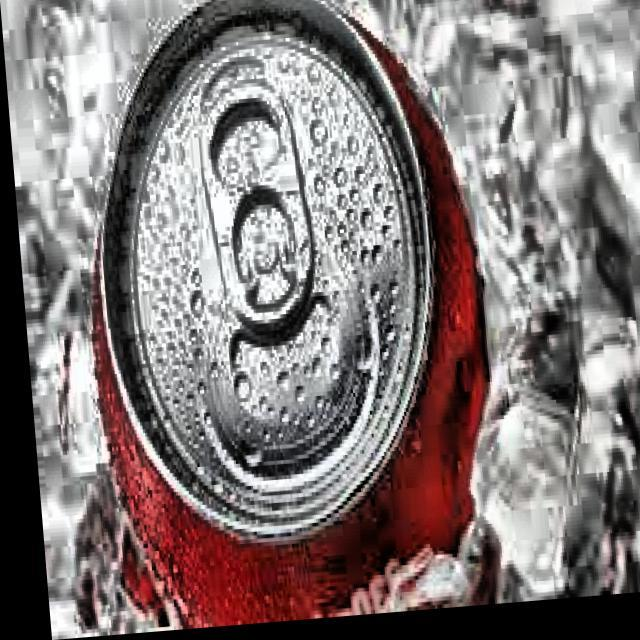can: (49, 0, 500, 637)
